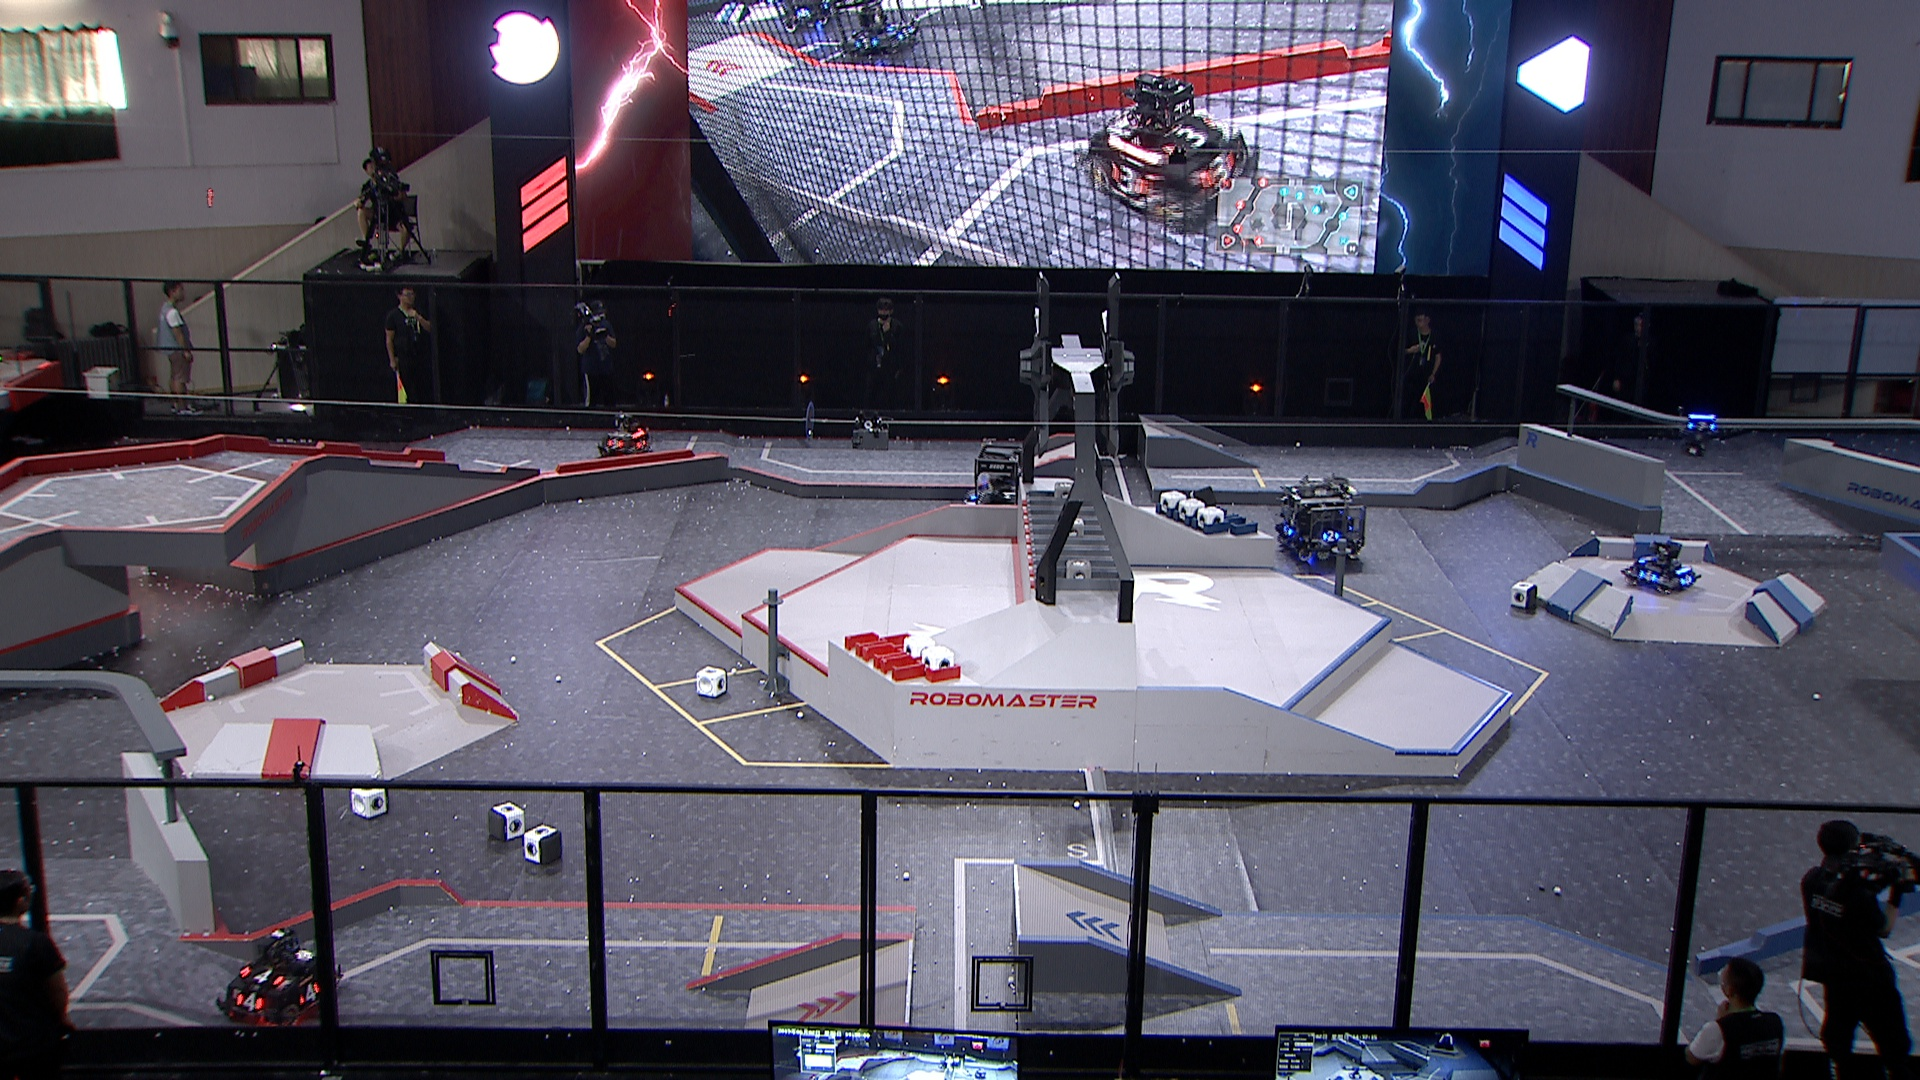armor: (237, 965, 285, 989), (233, 993, 268, 1015), (301, 978, 320, 1006), (1320, 527, 1342, 545), (1688, 419, 1717, 433), (1638, 568, 1660, 583), (607, 436, 626, 451), (1280, 522, 1296, 538), (636, 438, 650, 454), (1679, 574, 1695, 585), (1640, 555, 1655, 564)
car: (215, 924, 338, 1029), (1271, 475, 1367, 570), (961, 442, 1038, 529), (1625, 541, 1704, 597), (597, 411, 651, 458)
ignore: (1083, 73, 1257, 229), (839, 8, 920, 55), (775, 0, 840, 30)
watcher: (1681, 413, 1721, 458)
